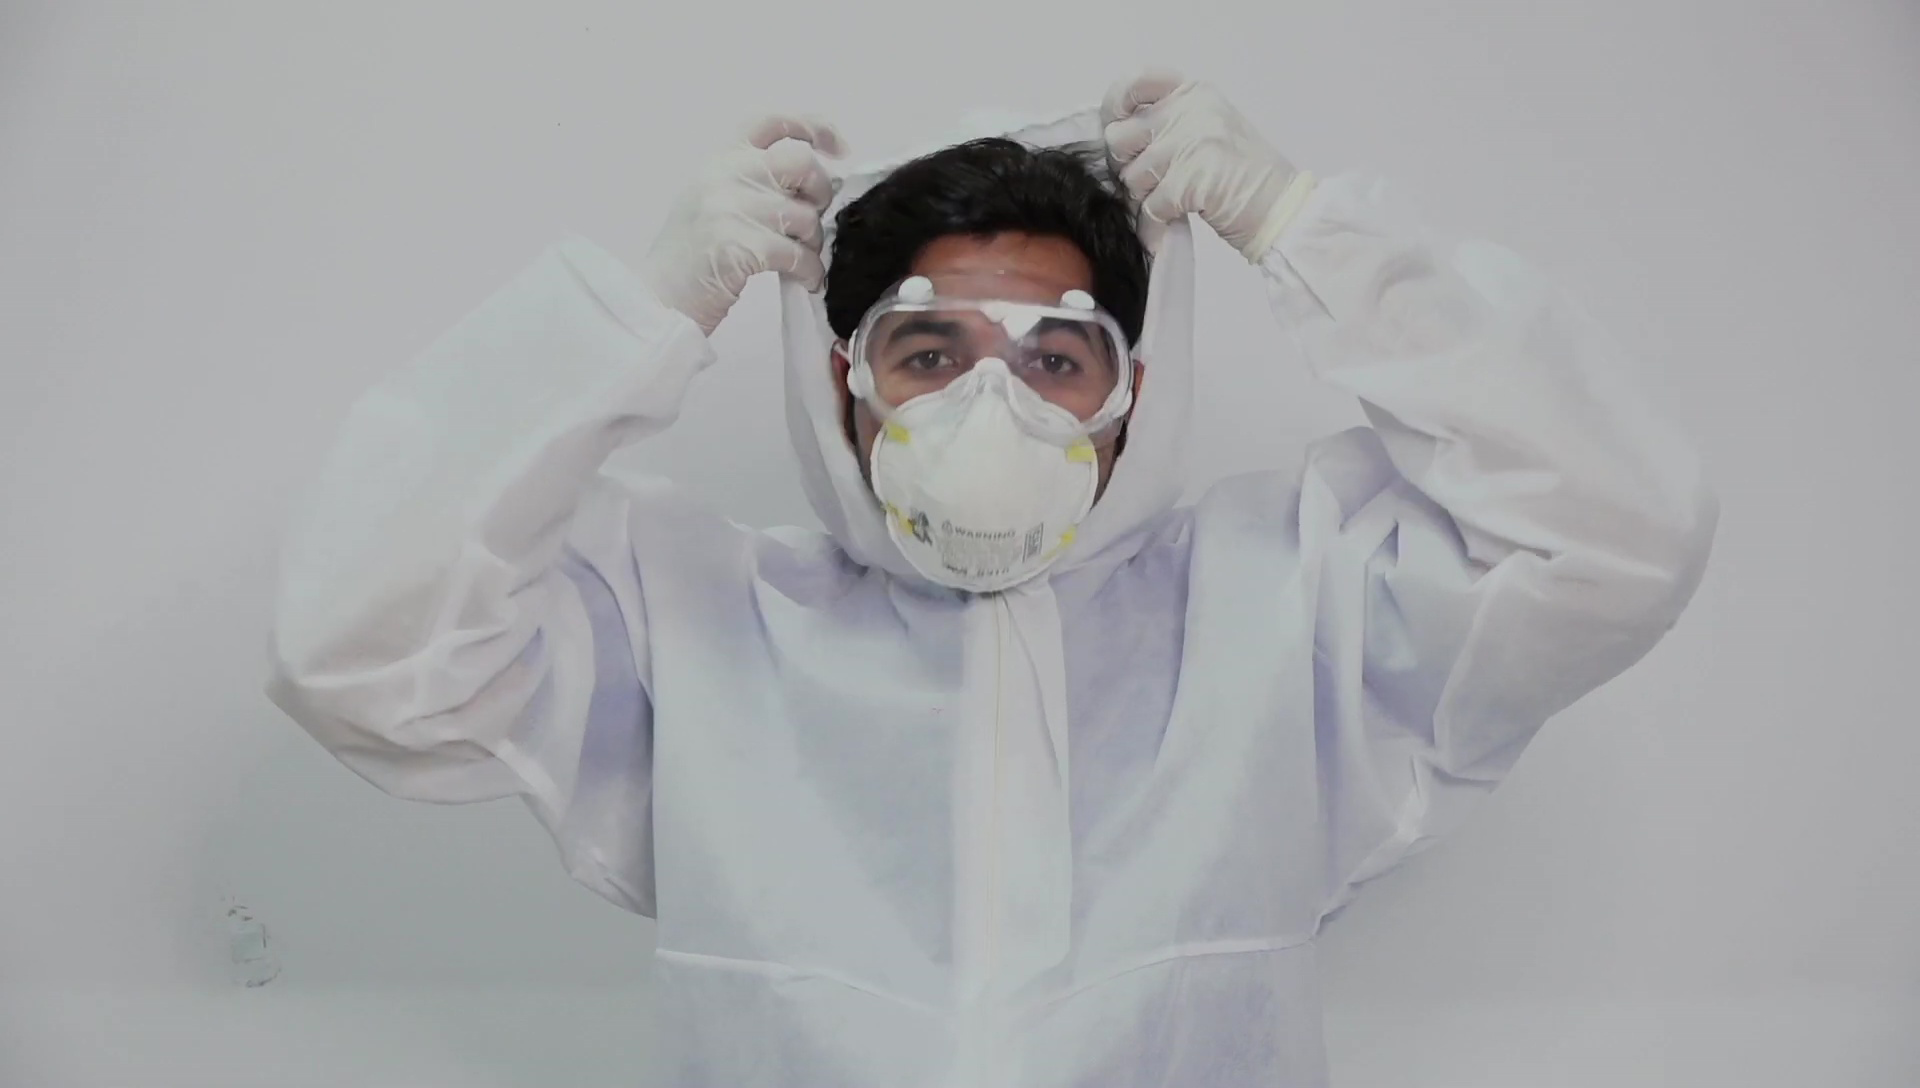Coverall: (267, 96, 1719, 1086)
Gloves: (629, 109, 828, 339), (1100, 60, 1297, 264)
Goggles: (843, 268, 1137, 449)
with_mask: (863, 348, 1111, 591)
